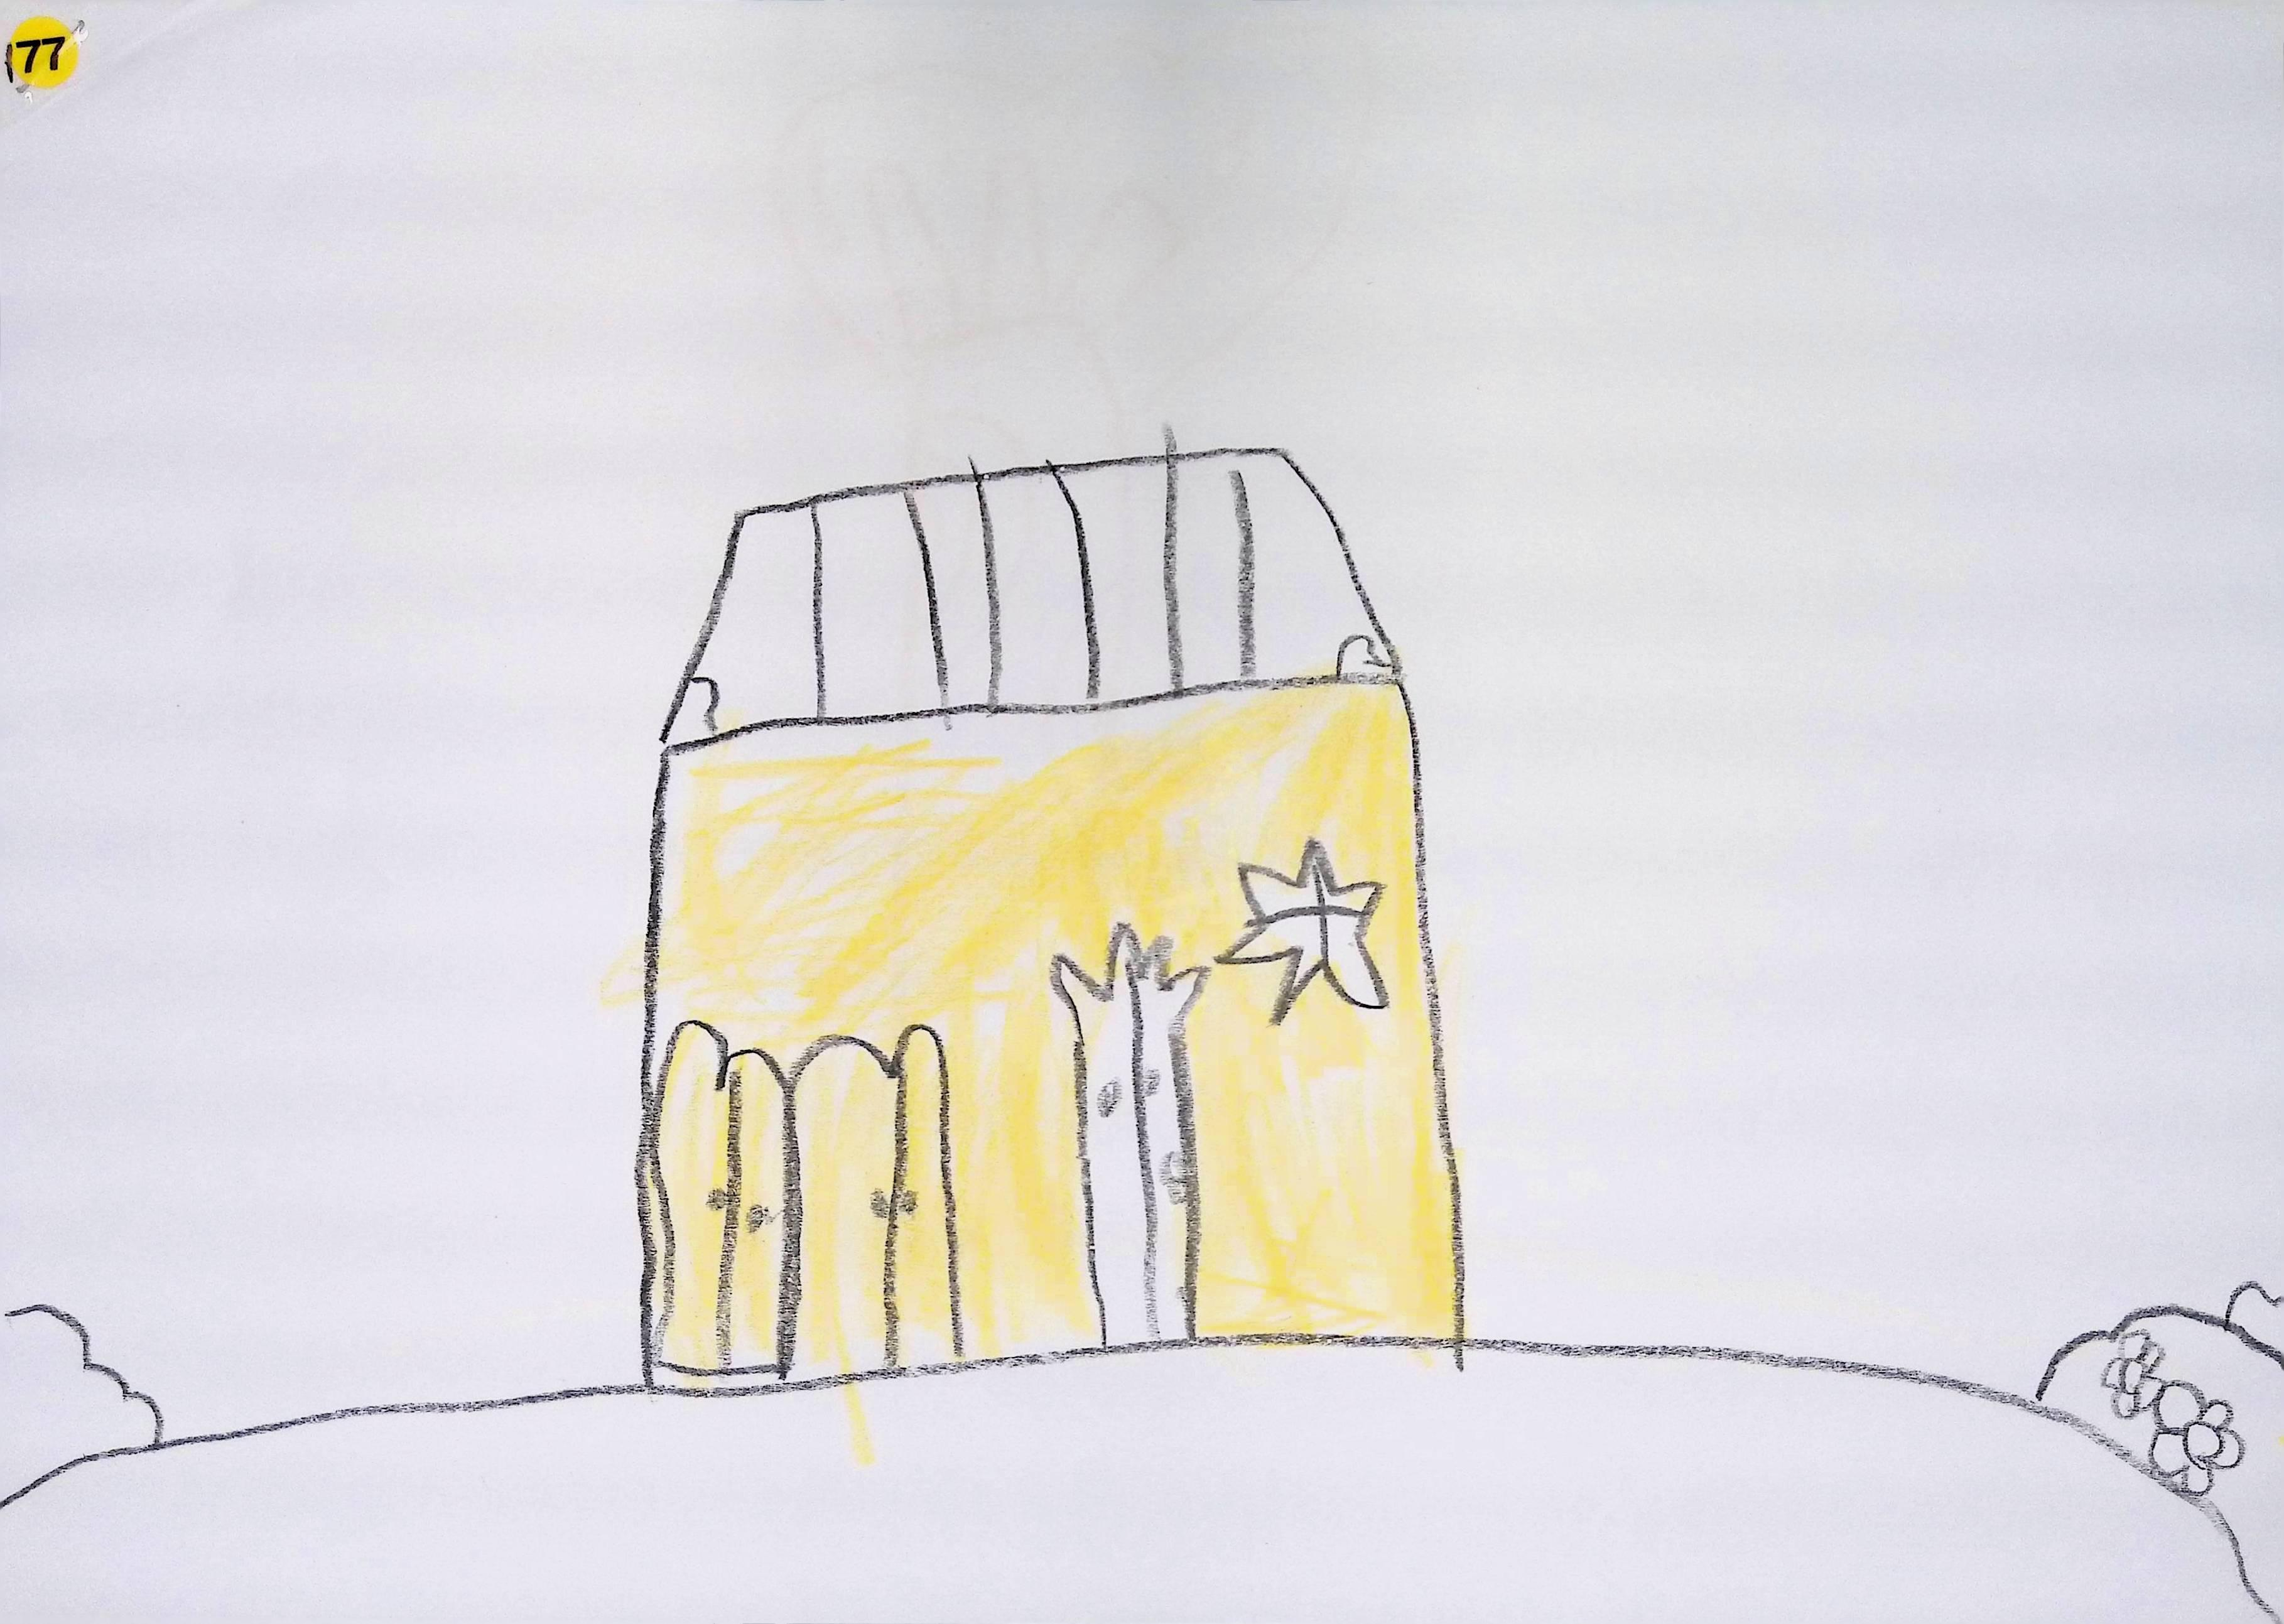door: (650, 1019, 963, 1380)
house: (636, 439, 1465, 1387)
roof: (662, 445, 1400, 745)
wall: (640, 666, 1465, 1387)
window: (1216, 838, 1390, 1023)
